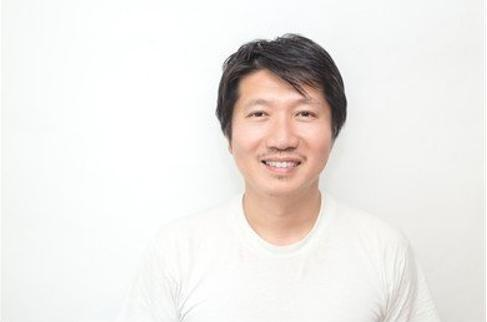Sober: (233, 73, 328, 199)
